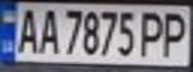5: (115, 8, 142, 57)
7: (96, 7, 121, 56), (60, 6, 84, 55)
8: (78, 7, 103, 56)
A: (12, 4, 42, 55), (33, 4, 60, 55)
P: (157, 7, 193, 58), (136, 7, 169, 57)
